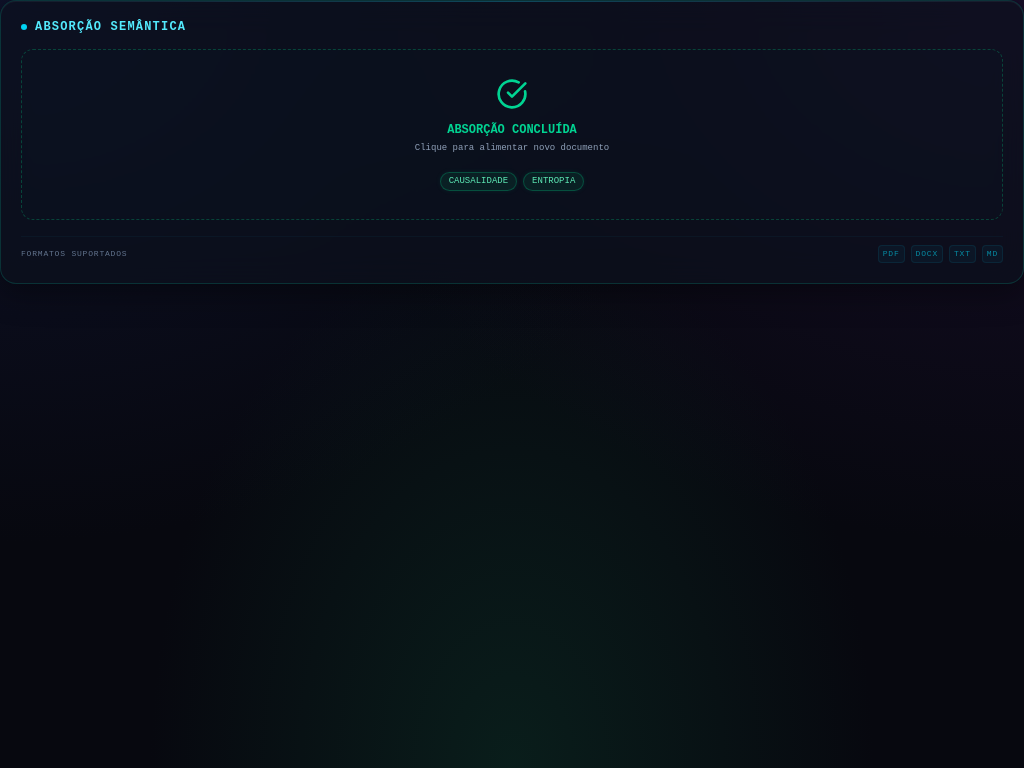
Test: AbsorcaoCognitiva · progresso via WebSocket › conclui com os conceitos injetados e permite reiniciar
Expected: the text "Causalidade" is shown, [440,172,517,191]
Expected: the text "Entropia" is shown, [523,172,584,191]
Click the text "Absorção Concluída" at [512, 130], box [447,123,577,137]
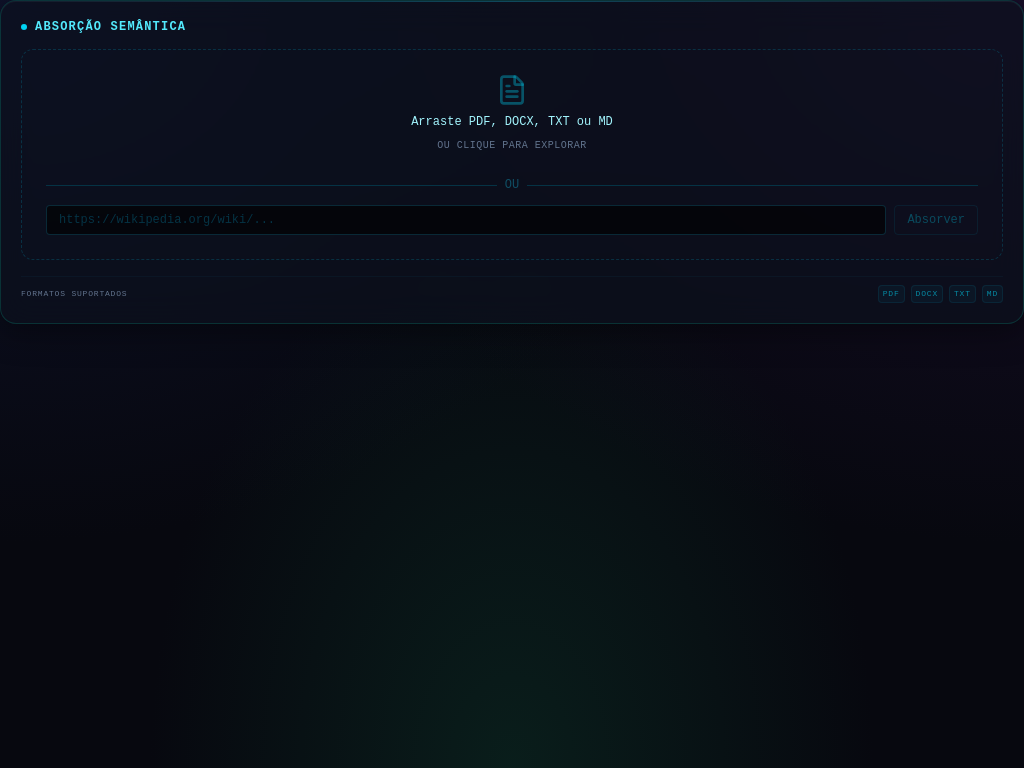
Expected: the text "Arraste PDF, DOCX, TXT ou MD" is shown, [411,114,613,130]
